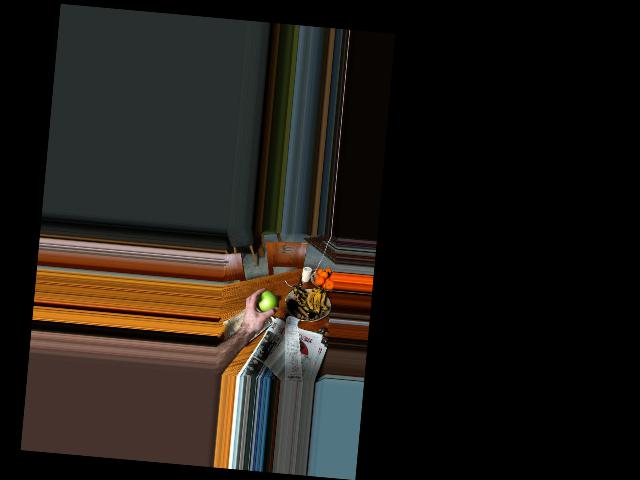apple: (253, 288, 279, 316)
